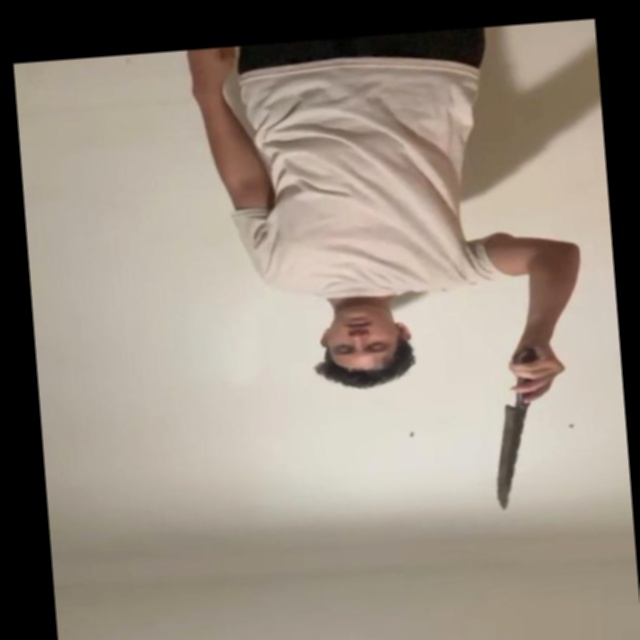Sharp-Object: (488, 407, 534, 511)
